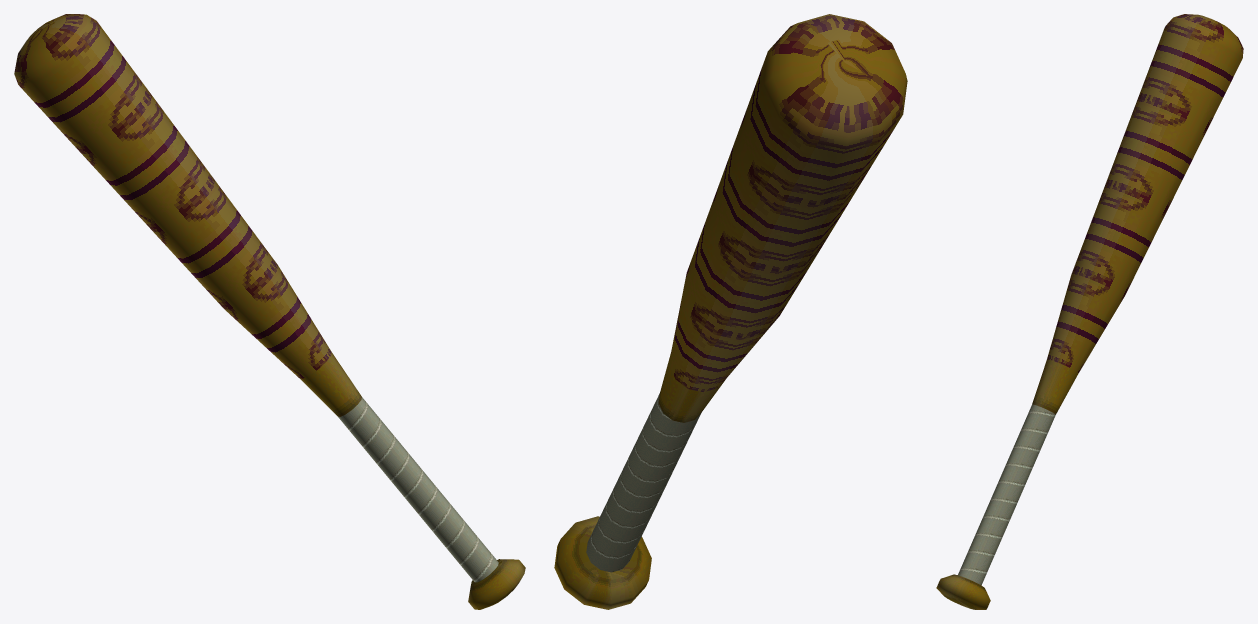
The model's file is DolHomeRunBat.obj.
3 renders of one model, left to right at view 1: azimuth 30°, elevation 25°; view 2: azimuth 150°, elevation 25°; view 3: azimuth 270°, elevation 25°, orthographic. The views are drawn at different scales.
Parts seen in each view (by area): view 1: polygon1, polygon2, polygon0; view 2: polygon1, polygon2, polygon0; view 3: polygon1, polygon2, polygon0.
Boxes of the visible parts, x1,y1,x2,y2 form: polygon1: [14, 14, 331, 378]; polygon2: [338, 397, 498, 582]; polygon0: [300, 352, 525, 609]; polygon1: [669, 14, 907, 392]; polygon2: [586, 393, 701, 572]; polygon0: [554, 353, 726, 609]; polygon1: [1047, 14, 1243, 372]; polygon2: [958, 404, 1055, 585]; polygon0: [936, 359, 1078, 609].
Size of the model in its own units: 9.54 by 13.93 by 8.15.
3 materials, 3 textured.
